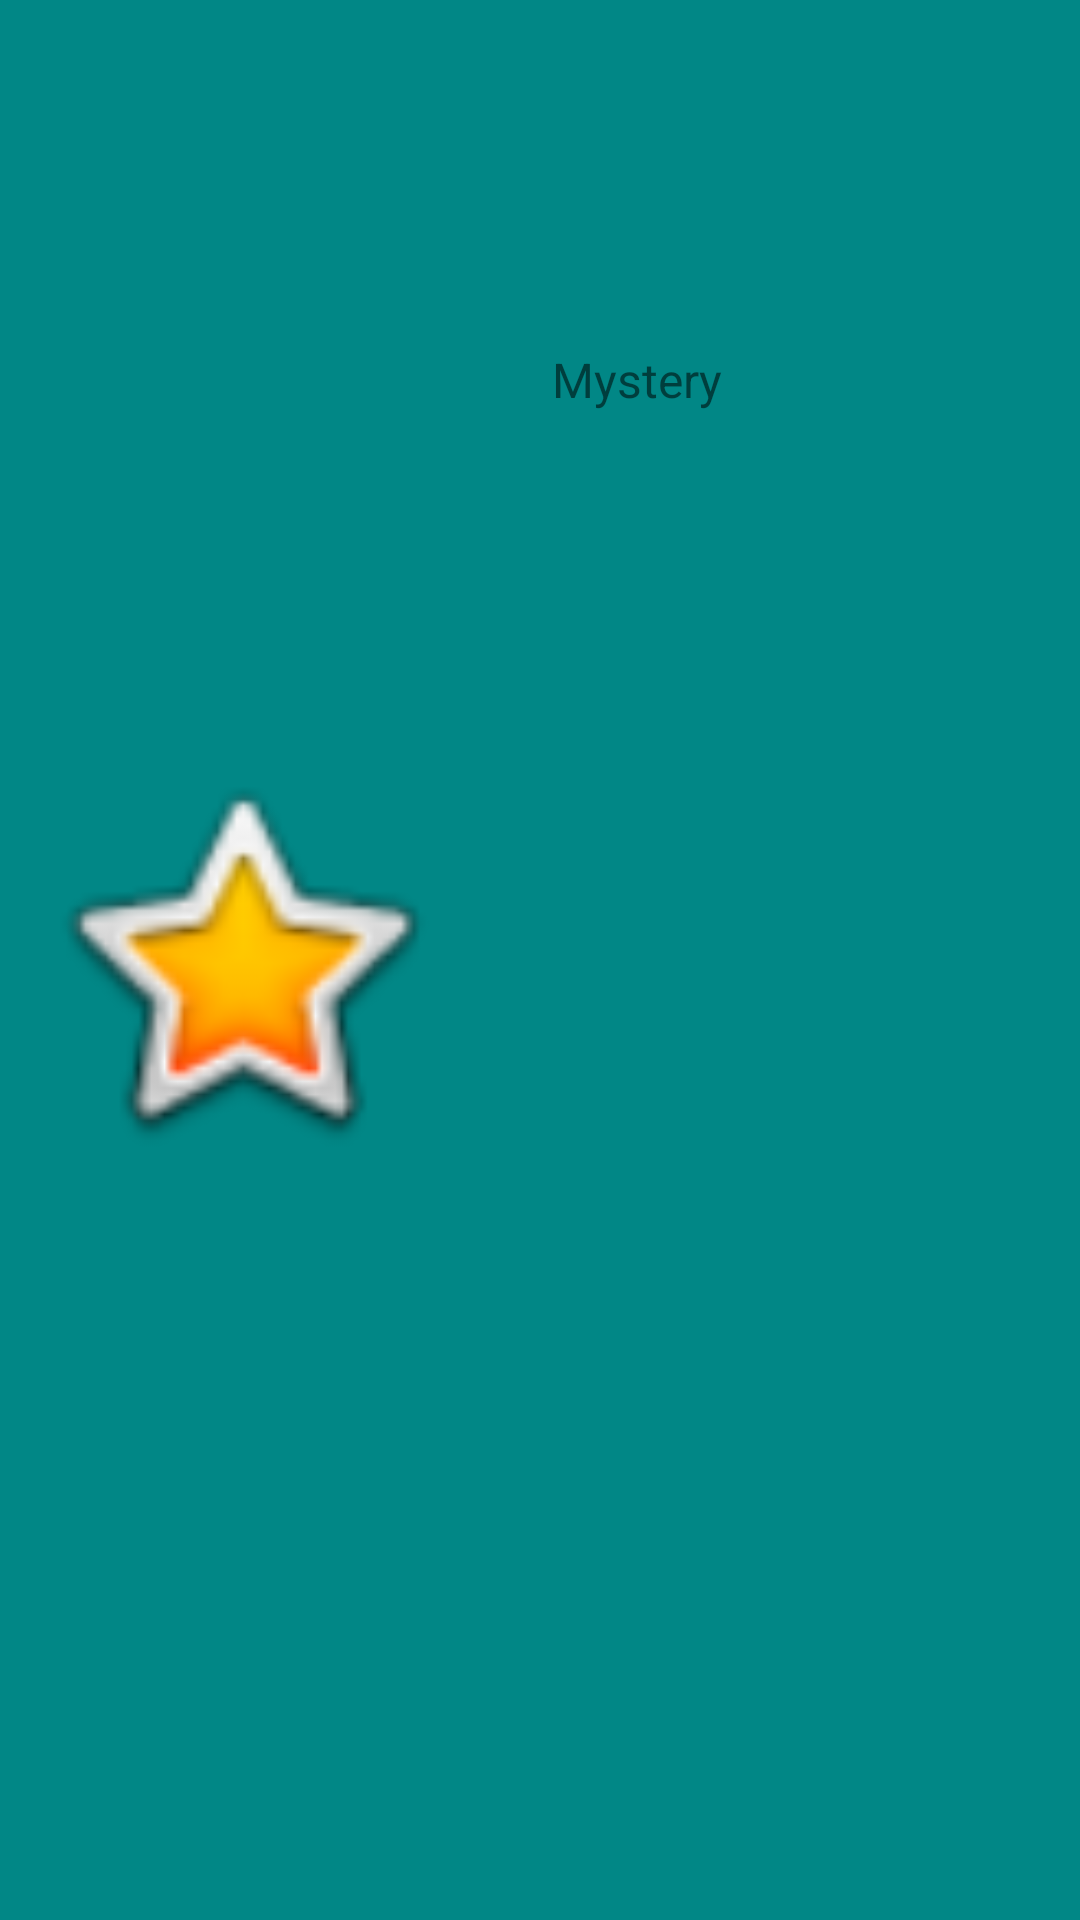

Icon click points for this 1080x1920 phone screenshot, format point (x, y):
star on: point (244, 964)
